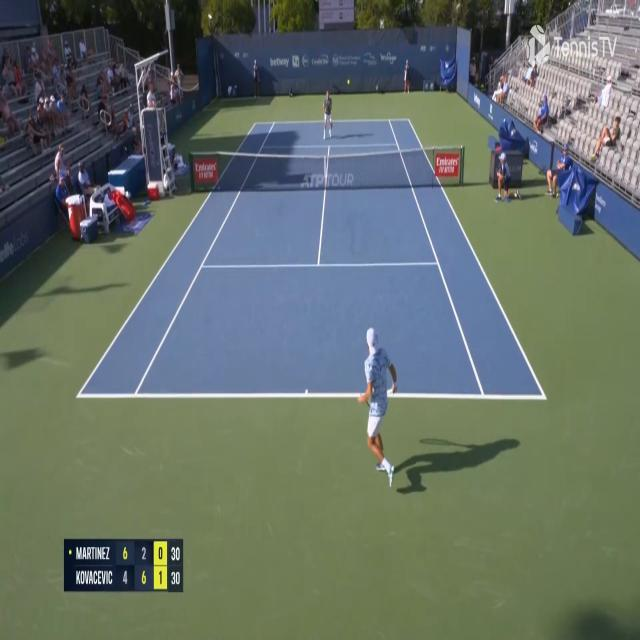tennis-player: (358, 324, 400, 483), (322, 86, 334, 138)
